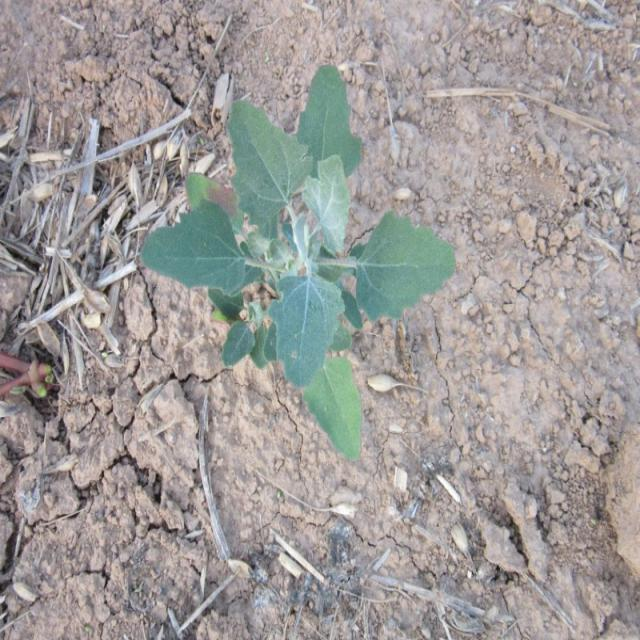ca: (136, 63, 460, 460)
